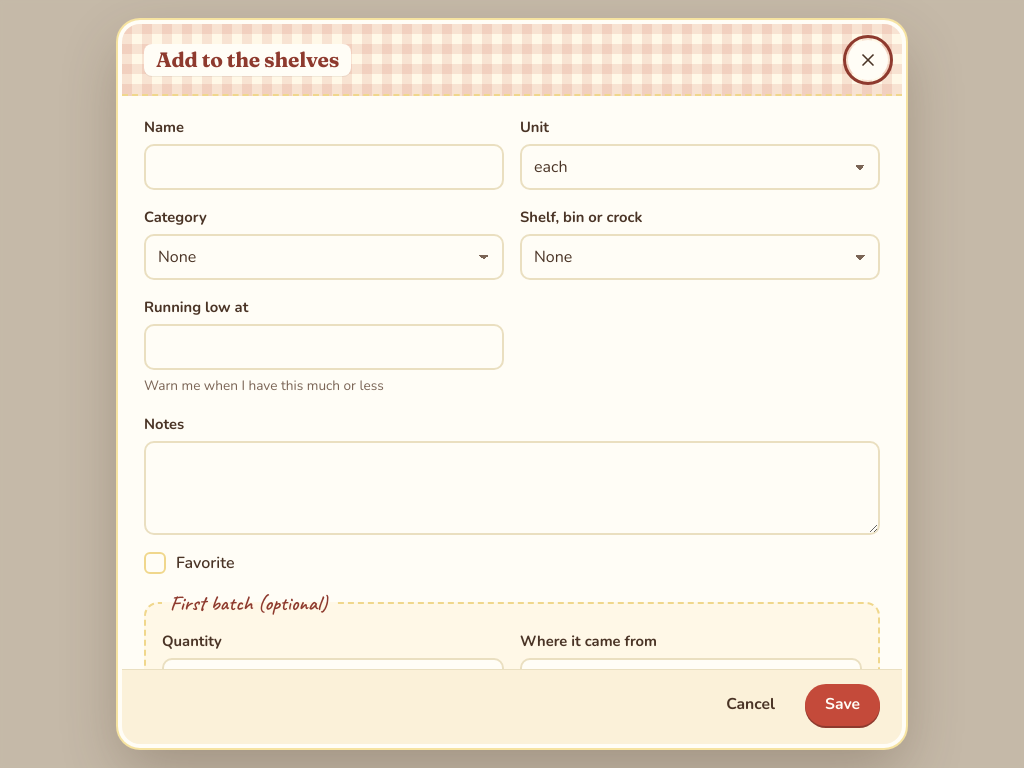
it: lists server errors that have no field in a form-level alert
The width and height of the screenshot is (1024, 768).
In the field labelled "Name": (324, 167) [144,144,504,190], type "Pickles"
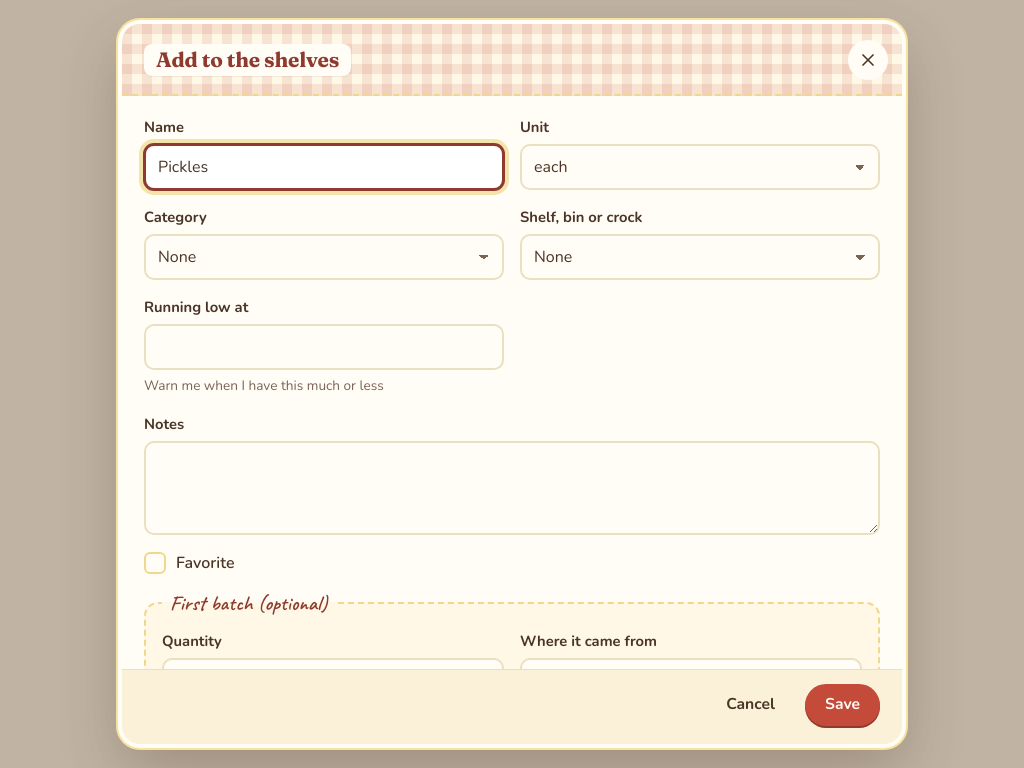
Click the button "Save": (842, 705) [805,684,880,726]
(page scrolled)
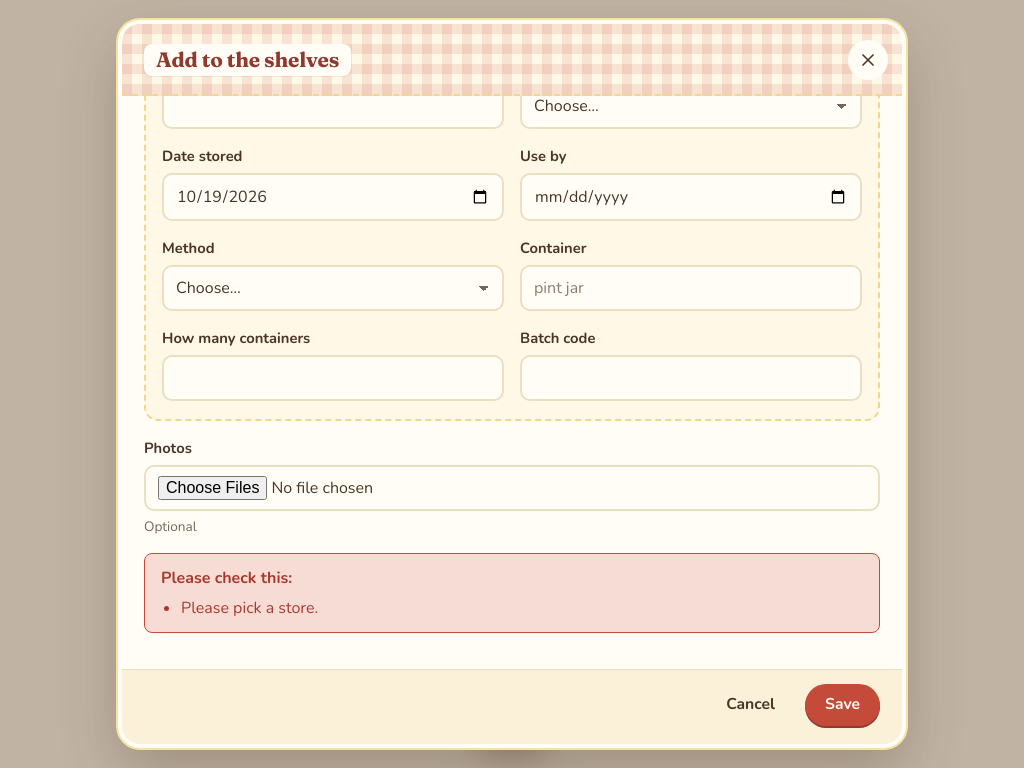
Result: the message "Please check this: Please pick a store." is shown at [144,553,880,633]
